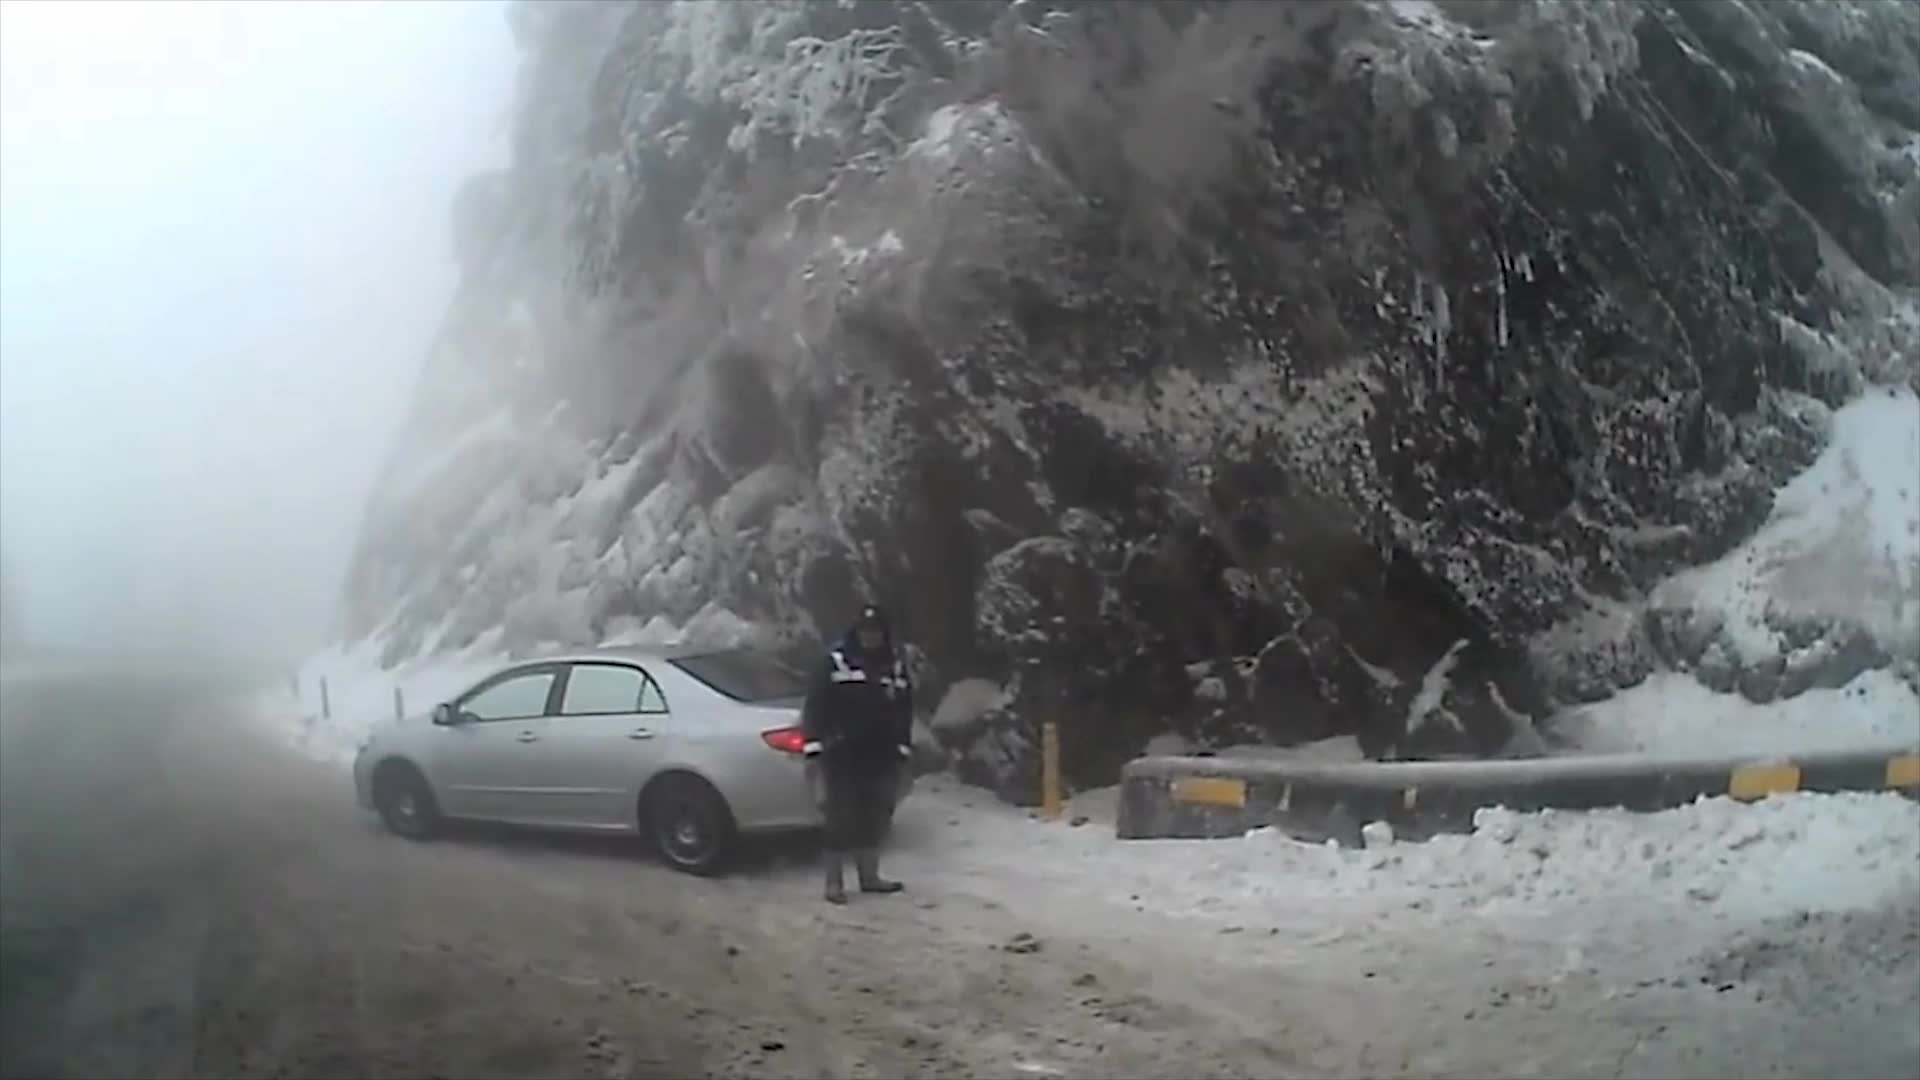pedestrian: (808, 598, 920, 905)
vehicle: (352, 640, 915, 876)
